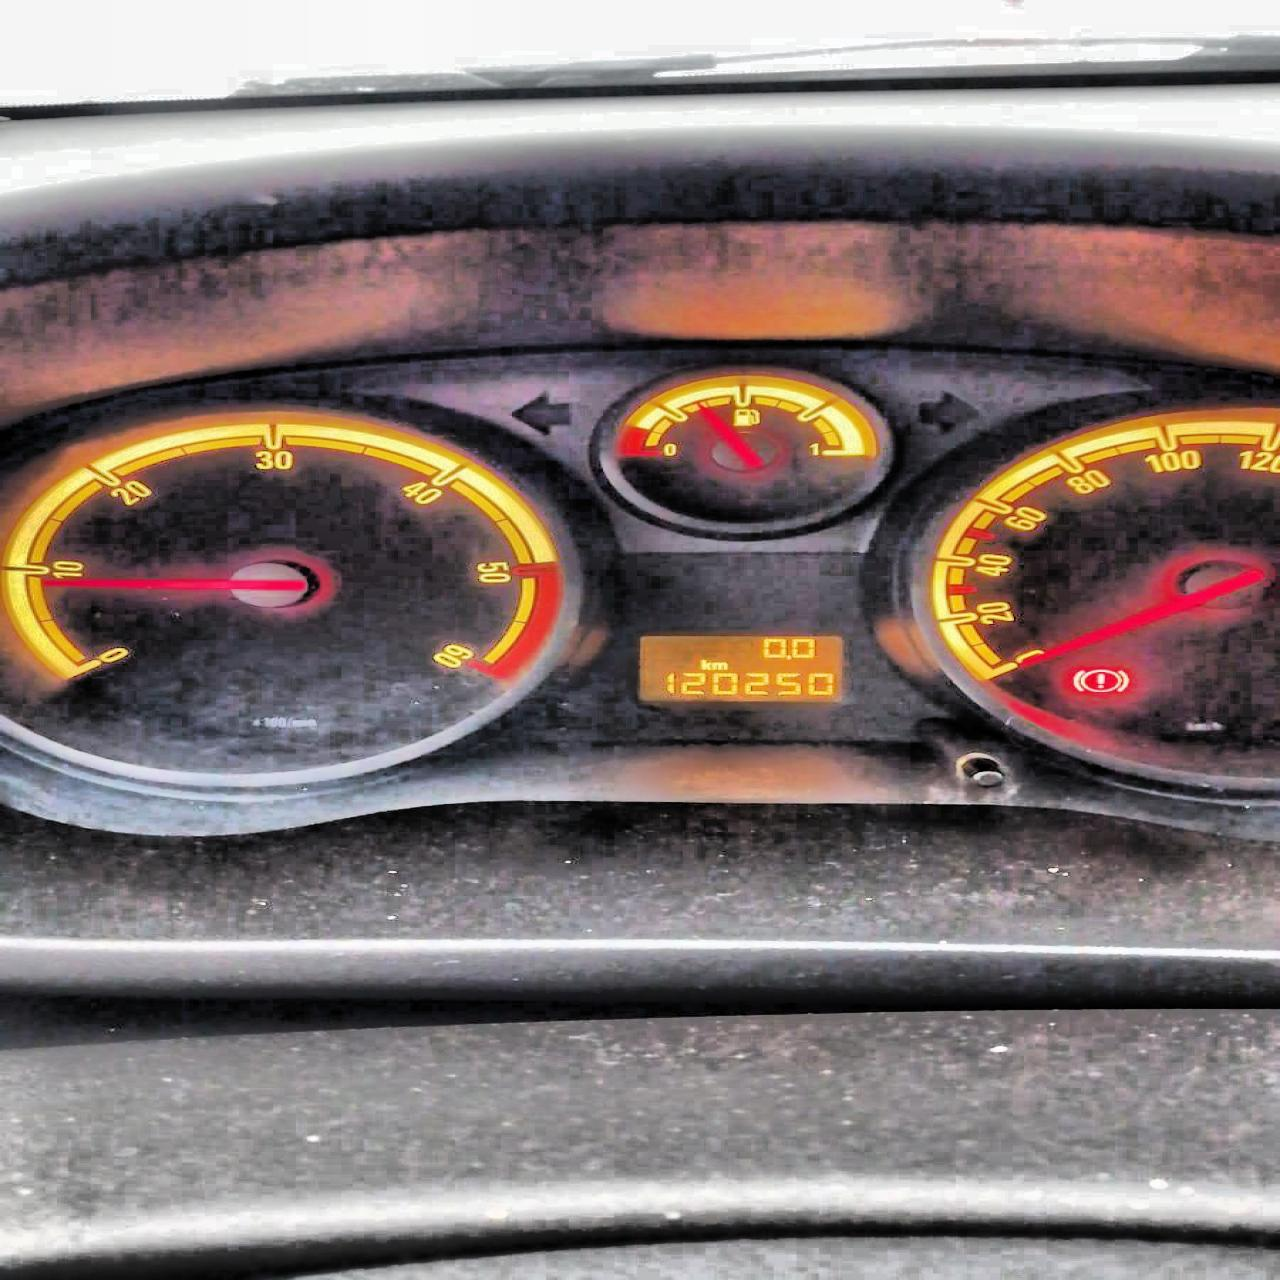-: (783, 654, 790, 660)
0: (805, 672, 832, 695), (709, 672, 736, 694), (761, 638, 787, 658), (789, 638, 815, 658)
1: (663, 672, 674, 693)
2: (679, 672, 706, 694), (742, 672, 768, 694)
5: (774, 672, 801, 695)
X: (709, 661, 727, 669), (699, 659, 710, 669)
odometer: (635, 634, 843, 703)
